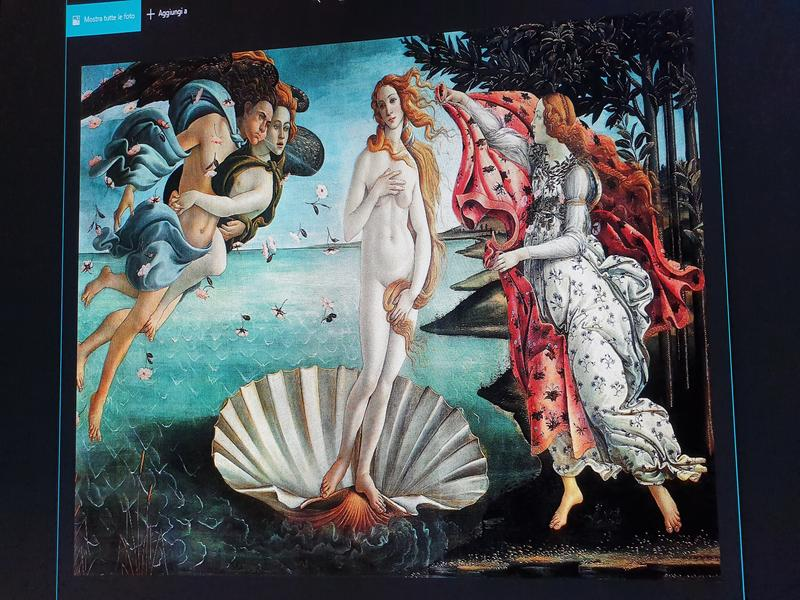Venere: (51, 9, 722, 581)
